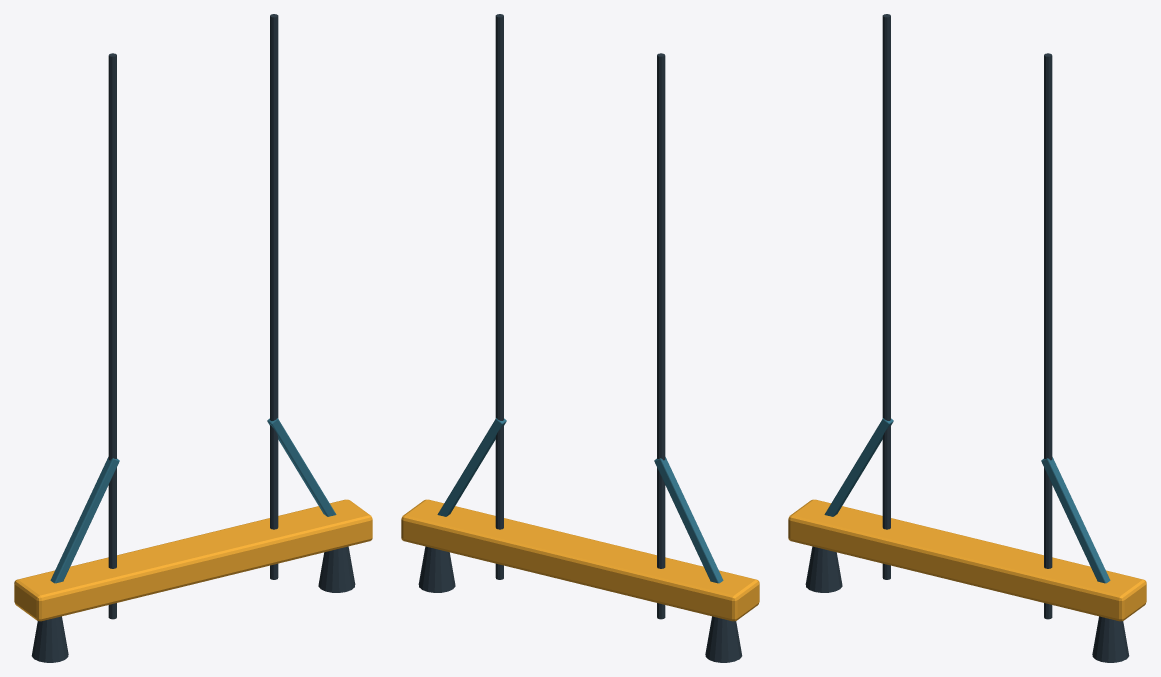
File: gantry-hoist-low.glb
3 renders of one model, left to right at view 1: azimuth 30°, elevation 25°; view 2: azimuth 150°, elevation 25°; view 3: azimuth 330°, elevation 25°, orthographic.
Parts seen in each view (by area): view 1: lifting_beam, hoist_cable.001, hoist_cable, beam_sling, lifting_hook, lifting_hook.001, beam_sling.001; view 2: lifting_beam, hoist_cable.001, hoist_cable, beam_sling, lifting_hook, lifting_hook.001, beam_sling.001; view 3: lifting_beam, hoist_cable, hoist_cable.001, beam_sling.001, lifting_hook.001, lifting_hook, beam_sling.
Part boxes in pixels (x1,y1,x2,y2): lifting_beam: [14, 499, 372, 621]; hoist_cable.001: [270, 14, 278, 579]; hoist_cable: [108, 53, 116, 619]; beam_sling: [50, 457, 119, 583]; lifting_hook: [31, 616, 68, 662]; lifting_hook.001: [318, 546, 355, 592]; beam_sling.001: [267, 418, 336, 516]; lifting_beam: [401, 499, 759, 621]; hoist_cable.001: [495, 14, 503, 579]; hoist_cable: [657, 53, 665, 619]; beam_sling: [654, 457, 723, 583]; lifting_hook: [705, 616, 742, 662]; lifting_hook.001: [418, 546, 455, 592]; beam_sling.001: [437, 418, 506, 516]; lifting_beam: [788, 499, 1146, 621]; hoist_cable: [882, 14, 890, 579]; hoist_cable.001: [1044, 53, 1052, 619]; beam_sling.001: [1041, 457, 1110, 583]; lifting_hook.001: [1092, 616, 1129, 662]; lifting_hook: [805, 546, 842, 592]; beam_sling: [824, 418, 893, 516].
Bounding box in the file's own units: 7.5 × 12.47 × 1.
